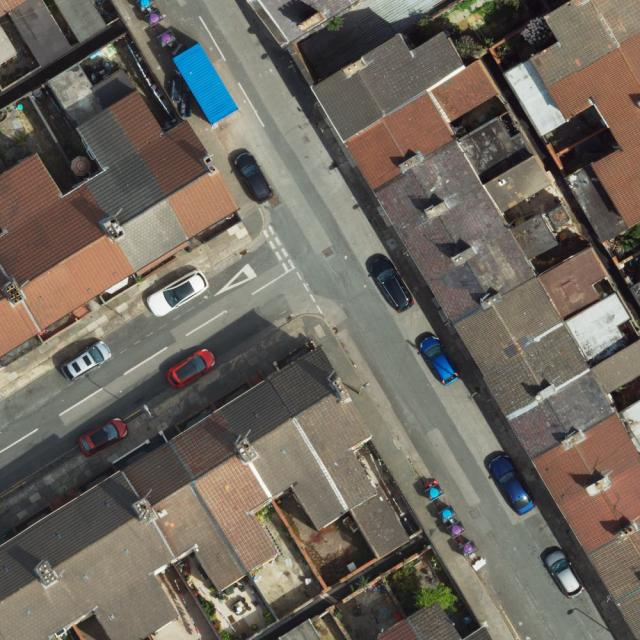roof: (308, 31, 640, 639), (0, 343, 412, 640), (0, 90, 241, 358), (502, 0, 640, 229), (245, 0, 361, 44), (0, 0, 73, 66)
